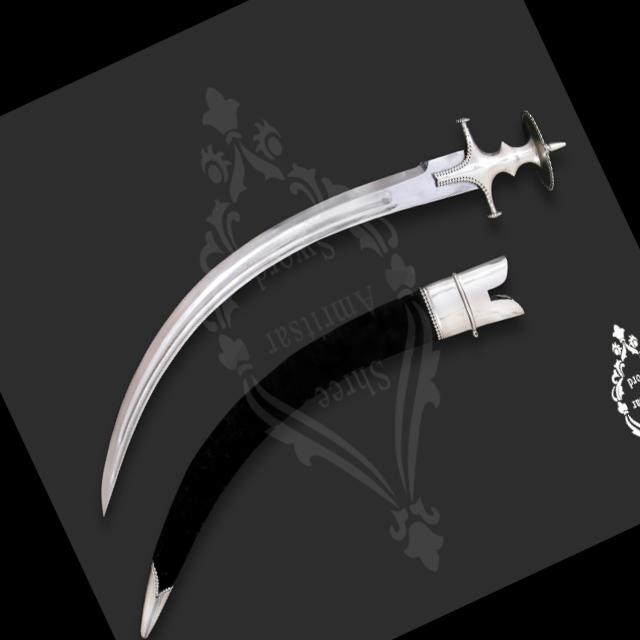Weapon: (6, 76, 638, 530)
